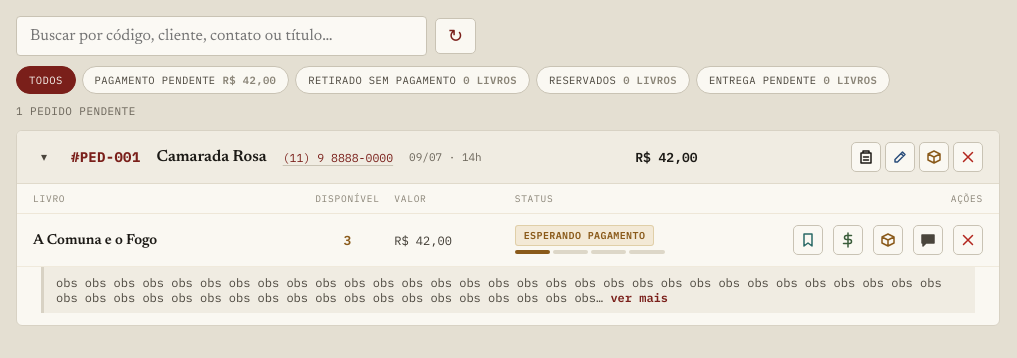
Test case: Backoffice — Pedidos (linhas por unidade) › unidade com observação mostra o texto clampado em 200 chars com ver mais/ver menos
Expected: the text "Camarada Rosa" is shown, [156, 149, 267, 165]
Click the button "ver mais": (639, 298) [610, 290, 668, 305]
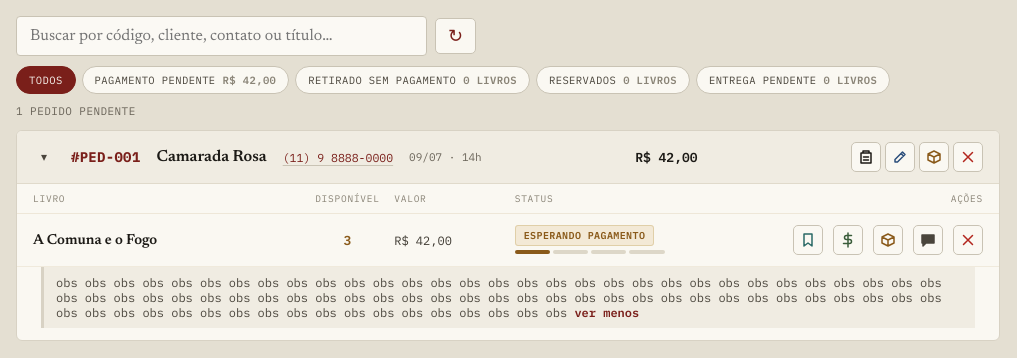
Expected: the button named "editar observação" is shown, [913, 225, 943, 255]
Expected: the button "ver menos" is shown, [574, 305, 639, 320]
